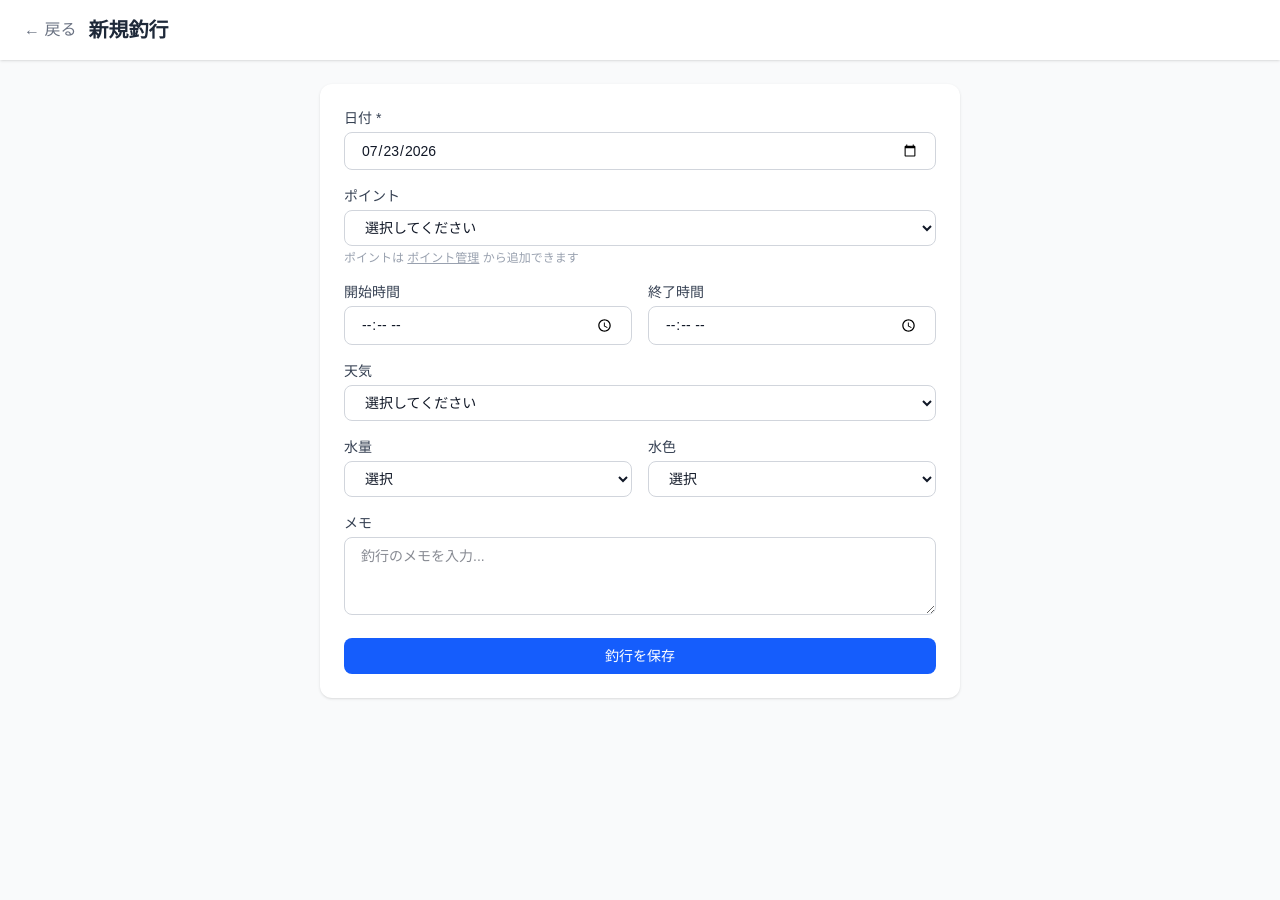
Test case: NewSessionPage › 保存失敗時は ApiError.detail を表示し画面遷移しない
The width and height of the screenshot is (1280, 900).
Click the button "釣行を保存". click: (640, 656)
box: x1=344 y1=638 x2=936 y2=674
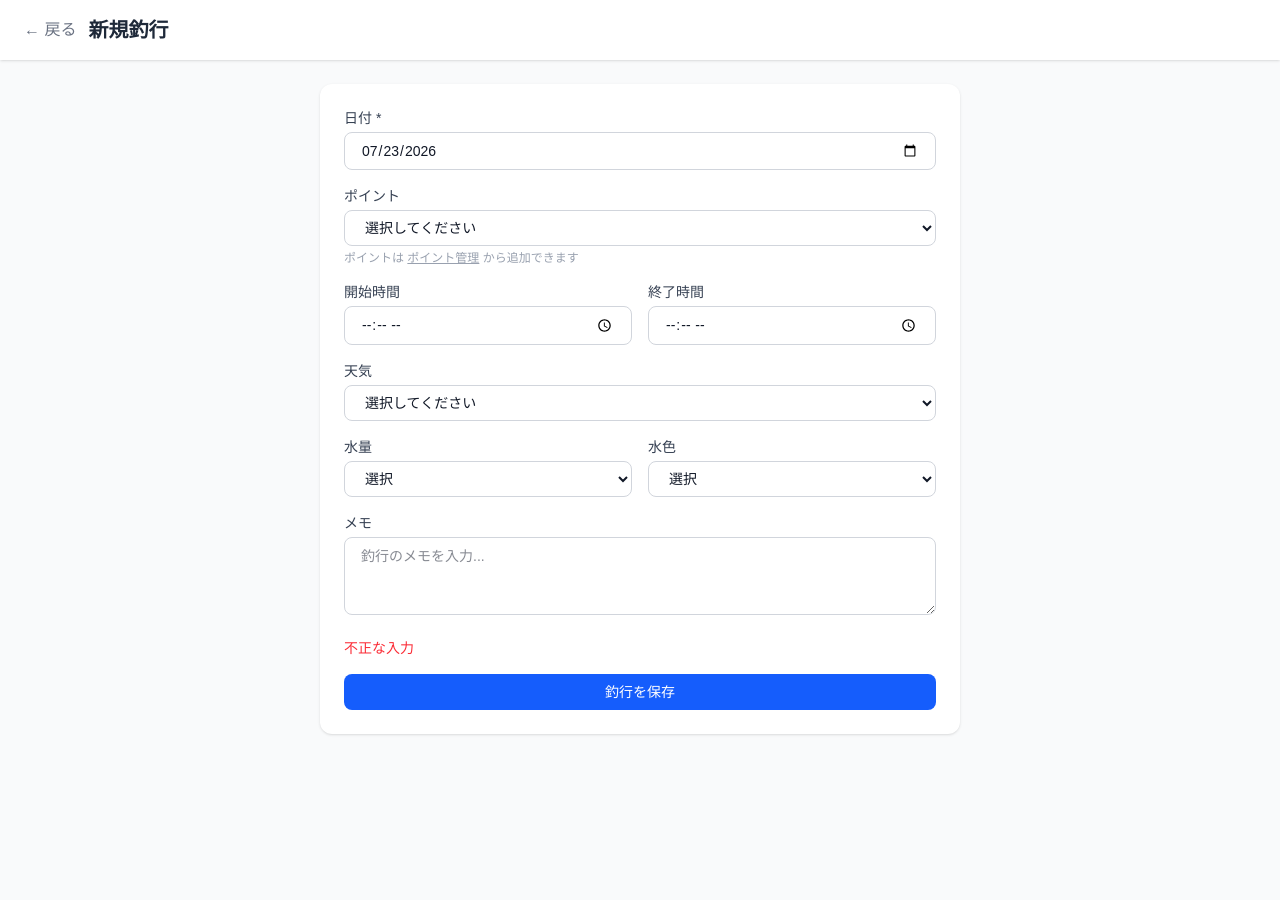
Expected: the button "釣行を保存" is enabled, x1=344 y1=674 x2=936 y2=710
Expected: the text "不正な入力" is shown, x1=344 y1=640 x2=414 y2=656
